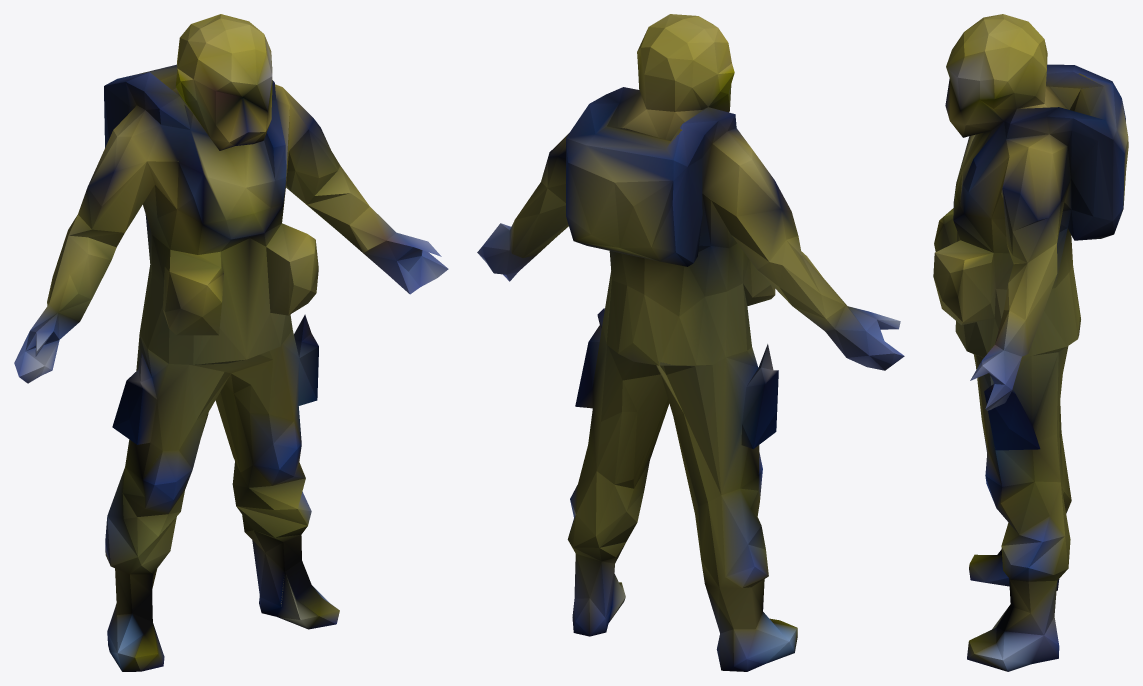
File: 防化兵1000面黄色.fbx
The picture shows the model from 3 angles, left to right: view 1: azimuth 30°, elevation 25°; view 2: azimuth 150°, elevation 25°; view 3: azimuth 270°, elevation 25°; orthographic projection. The views are drawn at different scales.
Parts seen in each view (by area): view 1: mesh_uv.obj; view 2: mesh_uv.obj; view 3: mesh_uv.obj.
Boxes of the visible parts, x1,y1,x2,y2 form: mesh_uv.obj: [14, 14, 448, 671]; mesh_uv.obj: [477, 14, 904, 671]; mesh_uv.obj: [933, 14, 1128, 671].
Bounding box in the file's own units: 81.47 × 113 × 33.02.
Materials: 1 (1 with a texture image).
